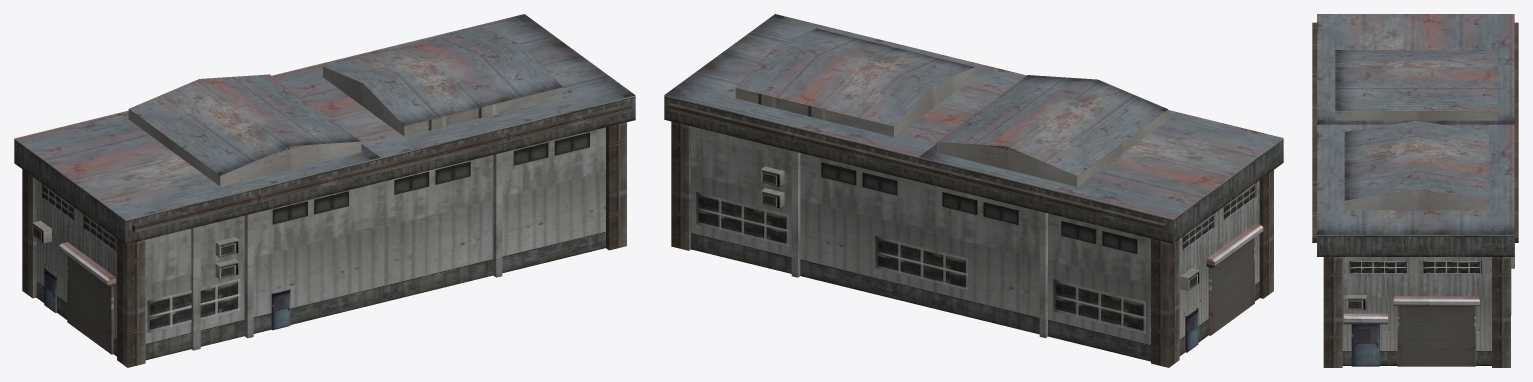
File: ind-warehouse-1.lod0.glb
3 views of the same model, side by side, from view 1: azimuth 30°, elevation 25°; view 2: azimuth 150°, elevation 25°; view 3: azimuth 270°, elevation 25° (orthographic). The views are drawn at different scales.
Parts seen in each view (by area): view 1: Industrial_Warehouse_1_Industrial_Walls_FLR_1_0, Industrial_Warehouse_1_Industrial_Facade_Flr_1_0; view 2: Industrial_Warehouse_1_Industrial_Walls_FLR_1_0, Industrial_Warehouse_1_Industrial_Facade_Flr_1_0; view 3: Industrial_Warehouse_1_Industrial_Walls_FLR_1_0, Industrial_Warehouse_1_Industrial_Facade_Flr_1_0.
Part boxes in pixels (x1,y1,x2,y2): Industrial_Warehouse_1_Industrial_Walls_FLR_1_0: [14, 14, 635, 367]; Industrial_Warehouse_1_Industrial_Facade_Flr_1_0: [32, 132, 589, 354]; Industrial_Warehouse_1_Industrial_Walls_FLR_1_0: [664, 14, 1283, 367]; Industrial_Warehouse_1_Industrial_Facade_Flr_1_0: [696, 162, 1263, 352]; Industrial_Warehouse_1_Industrial_Walls_FLR_1_0: [1312, 14, 1518, 367]; Industrial_Warehouse_1_Industrial_Facade_Flr_1_0: [1343, 243, 1514, 366].
Size of the model in its own units: 33.83 by 11.12 by 13.36.
Materials: 2 (2 with a texture image).
